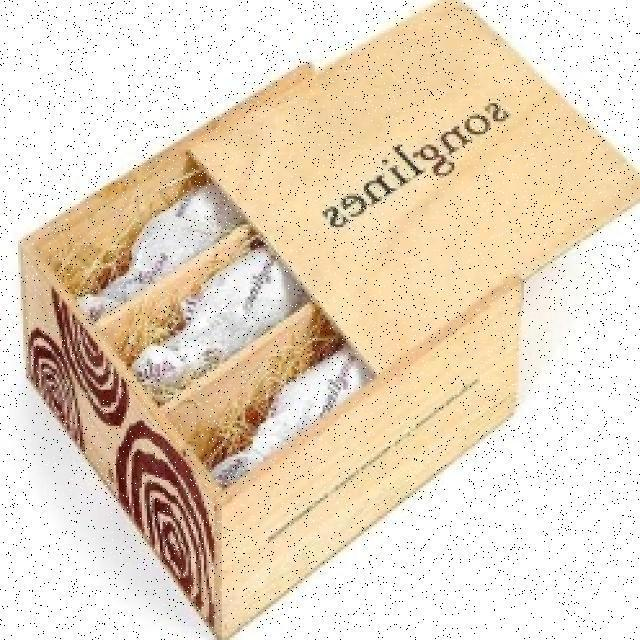box: (18, 50, 597, 605)
